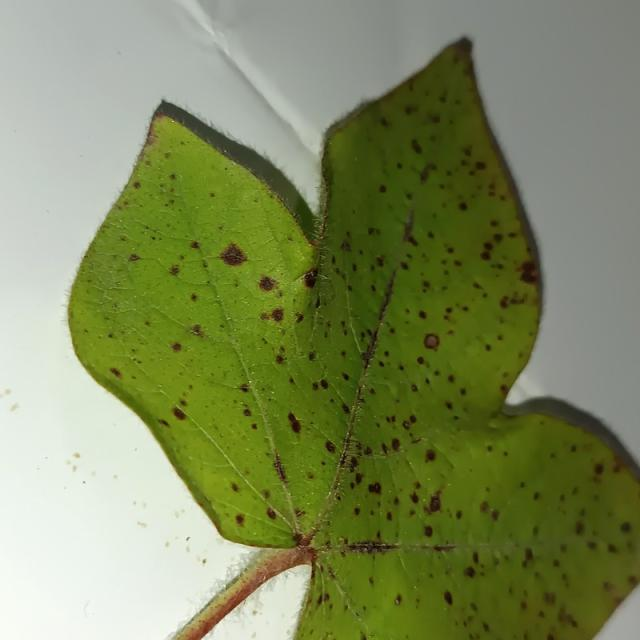Bacterial_Blight: (477, 229, 514, 268), (498, 288, 531, 312), (219, 242, 247, 267), (402, 208, 417, 241), (519, 260, 538, 285), (272, 455, 287, 482), (558, 609, 577, 629), (323, 436, 340, 457), (287, 412, 302, 435), (184, 237, 204, 254), (258, 275, 277, 292), (420, 162, 437, 181), (303, 269, 318, 288), (145, 126, 160, 144), (428, 494, 441, 513), (424, 334, 439, 349), (189, 324, 205, 338), (411, 138, 423, 155), (367, 481, 381, 495), (270, 308, 284, 322), (433, 544, 456, 552), (543, 592, 556, 606), (173, 407, 186, 420), (292, 532, 305, 545), (523, 547, 534, 562), (464, 566, 476, 579), (620, 521, 633, 533), (109, 367, 122, 379), (613, 595, 625, 608), (575, 520, 585, 535), (443, 591, 453, 606), (314, 292, 322, 310), (425, 449, 436, 462), (594, 463, 605, 476), (340, 241, 351, 253), (604, 582, 615, 594), (391, 438, 401, 451), (354, 472, 364, 485), (266, 507, 276, 520), (480, 501, 490, 514), (169, 265, 180, 276), (318, 593, 329, 604), (607, 543, 618, 554), (319, 378, 329, 390), (423, 525, 433, 537), (375, 256, 385, 268), (490, 508, 499, 521), (157, 419, 170, 428), (239, 383, 250, 393), (235, 514, 245, 525), (171, 342, 182, 352), (480, 251, 491, 261), (482, 241, 493, 251), (295, 508, 306, 518), (627, 576, 637, 587), (410, 492, 419, 504), (128, 253, 140, 262), (295, 312, 304, 323), (475, 161, 486, 170), (337, 537, 348, 546), (275, 354, 284, 364), (418, 310, 427, 320), (230, 482, 239, 492), (402, 420, 411, 430), (458, 202, 468, 211), (455, 509, 463, 520), (394, 595, 402, 606), (243, 408, 252, 417), (416, 356, 425, 365), (378, 184, 387, 193), (132, 181, 141, 190), (342, 372, 350, 382), (447, 374, 455, 384), (532, 491, 540, 501), (500, 384, 508, 394), (445, 401, 453, 410), (190, 293, 198, 302), (634, 576, 640, 588), (369, 576, 375, 587), (260, 313, 268, 321), (353, 507, 360, 516), (411, 384, 418, 392), (546, 635, 555, 640), (209, 192, 216, 198), (107, 333, 113, 339)
Cotton: (68, 40, 639, 639)
